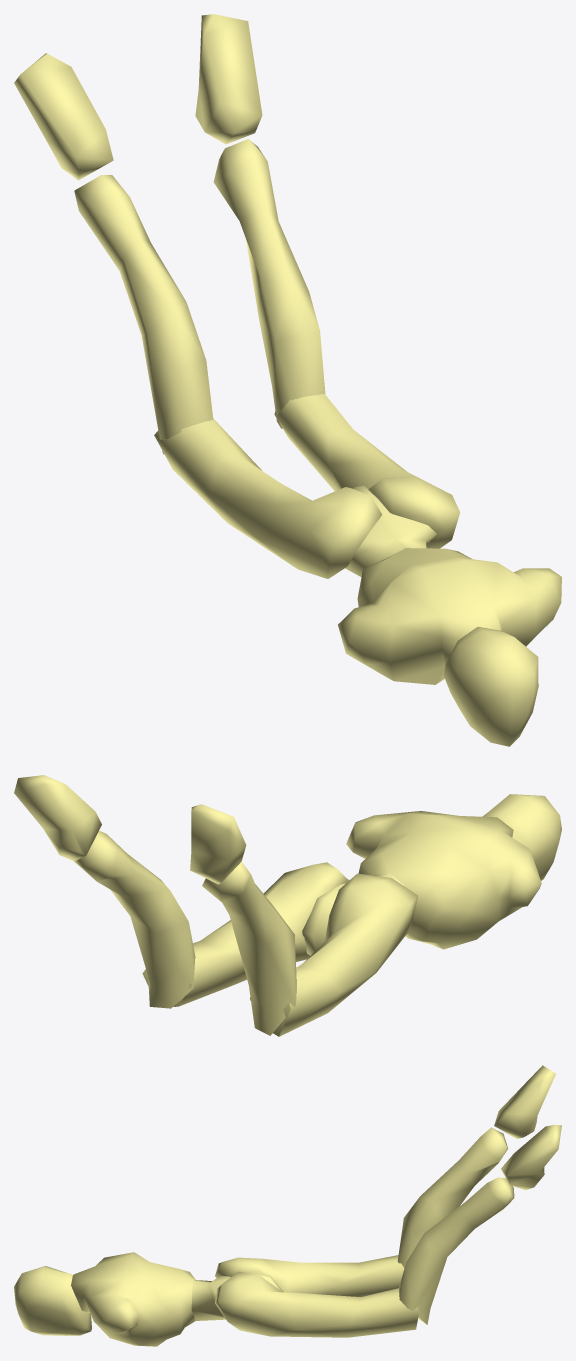
Rendered from filth73.obj.
3 renders of one model, top to bottom at view 1: azimuth 30°, elevation 25°; view 2: azimuth 150°, elevation 25°; view 3: azimuth 270°, elevation 25°, orthographic. The views are drawn at different scales.
Visible parts, largest first — view 1: Melee_Husk; view 2: Melee_Husk; view 3: Melee_Husk.
Part boxes in pixels (left/top/right/bottom): Melee_Husk: left=14, top=14, right=561, bottom=746; Melee_Husk: left=14, top=775, right=561, bottom=1036; Melee_Husk: left=14, top=1065, right=561, bottom=1346.
Size of the model in its own units: 23.73 by 37.82 by 74.47.
